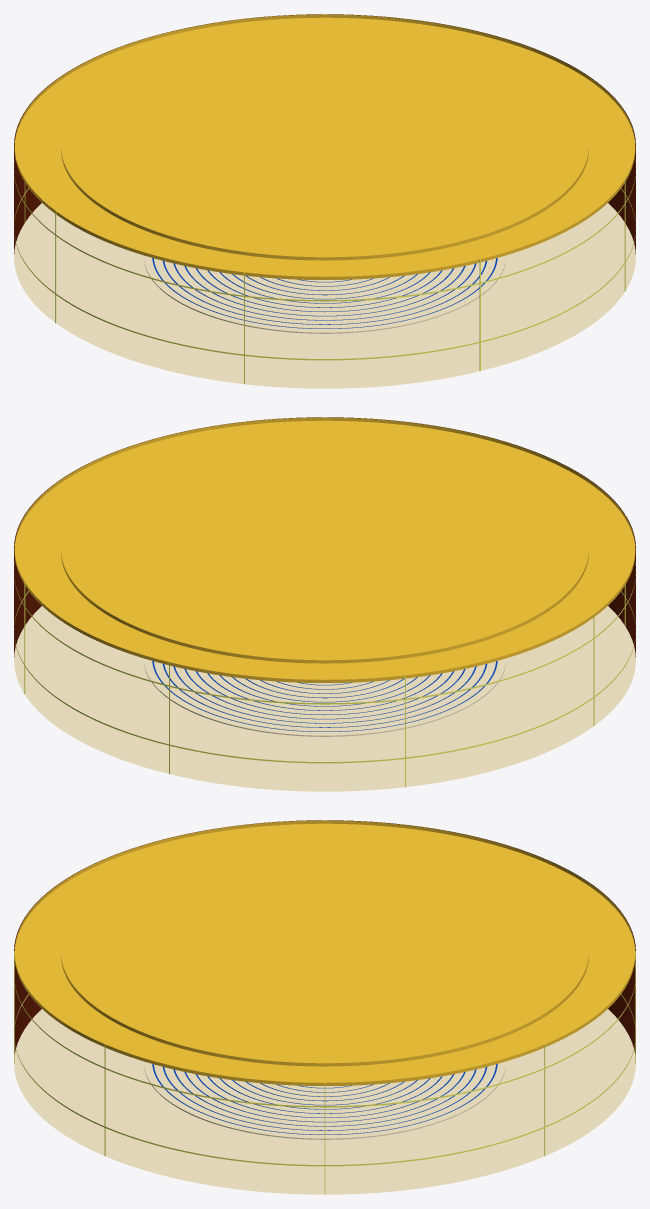
File: room.fbx
The picture shows the model from 3 angles, top to bottom: view 1: azimuth 30°, elevation 25°; view 2: azimuth 150°, elevation 25°; view 3: azimuth 270°, elevation 25°; orthographic projection.
Visible parts, largest first — view 1: Group12, Group1, Group2, Group14, Group16, Group30, Group15, Group37; view 2: Group12, Group1, Group2, Group14, Group15, Group30; view 3: Group12, Group1, Group2, Group16.
Boxes of the visible parts, box(x1,y1,x2,y2) form: Group12: box(14, 14, 635, 279); Group1: box(14, 203, 635, 388); Group2: box(14, 14, 635, 360); Group14: box(296, 168, 427, 195); Group16: box(352, 97, 442, 144); Group30: box(275, 174, 400, 190); Group15: box(220, 95, 348, 124); Group37: box(295, 100, 415, 124); Group12: box(14, 417, 635, 682); Group1: box(14, 606, 635, 791); Group2: box(14, 417, 635, 763); Group14: box(323, 498, 438, 535); Group15: box(213, 563, 330, 598); Group30: box(349, 505, 431, 547); Group12: box(14, 820, 635, 1085); Group1: box(14, 1009, 635, 1194); Group2: box(14, 820, 635, 1166); Group16: box(268, 985, 409, 1001).
Bounding box in the file's own units: 372 × 73.64 × 372.
